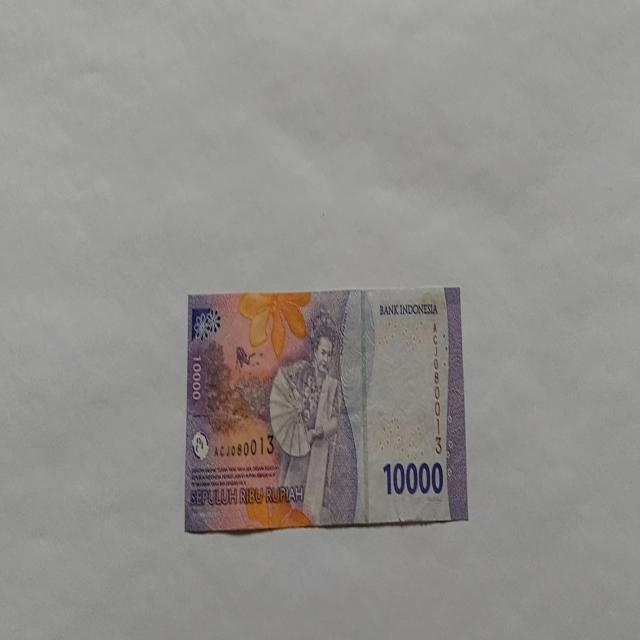sepuluh ribu rupiah: (184, 286, 468, 534)
